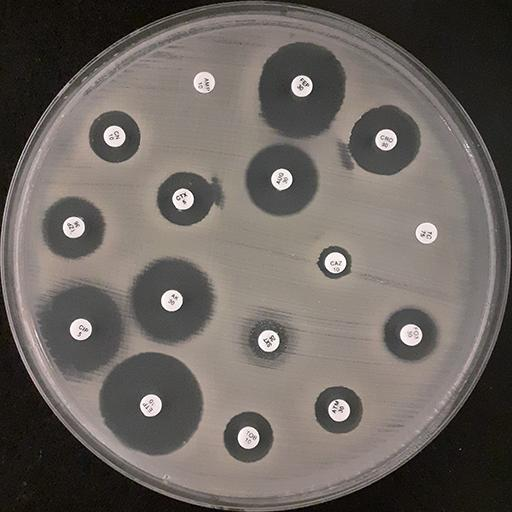disc: (170, 187, 195, 211), (69, 317, 93, 342), (374, 128, 398, 152), (270, 167, 294, 191), (62, 216, 86, 240), (160, 288, 184, 312), (257, 329, 281, 353), (399, 323, 423, 347), (236, 426, 260, 450), (139, 393, 163, 417), (193, 70, 216, 94), (414, 222, 438, 245), (327, 399, 351, 422), (103, 125, 126, 148), (324, 251, 347, 274), (290, 75, 313, 97)
